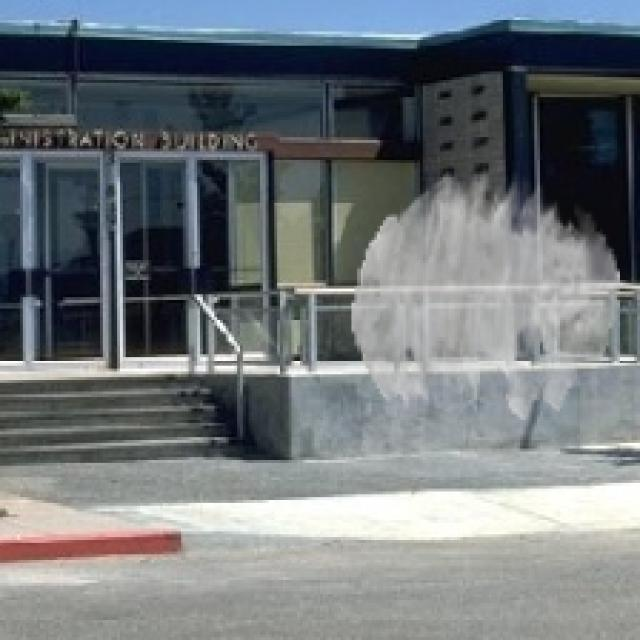Smoke: (351, 168, 620, 420)
